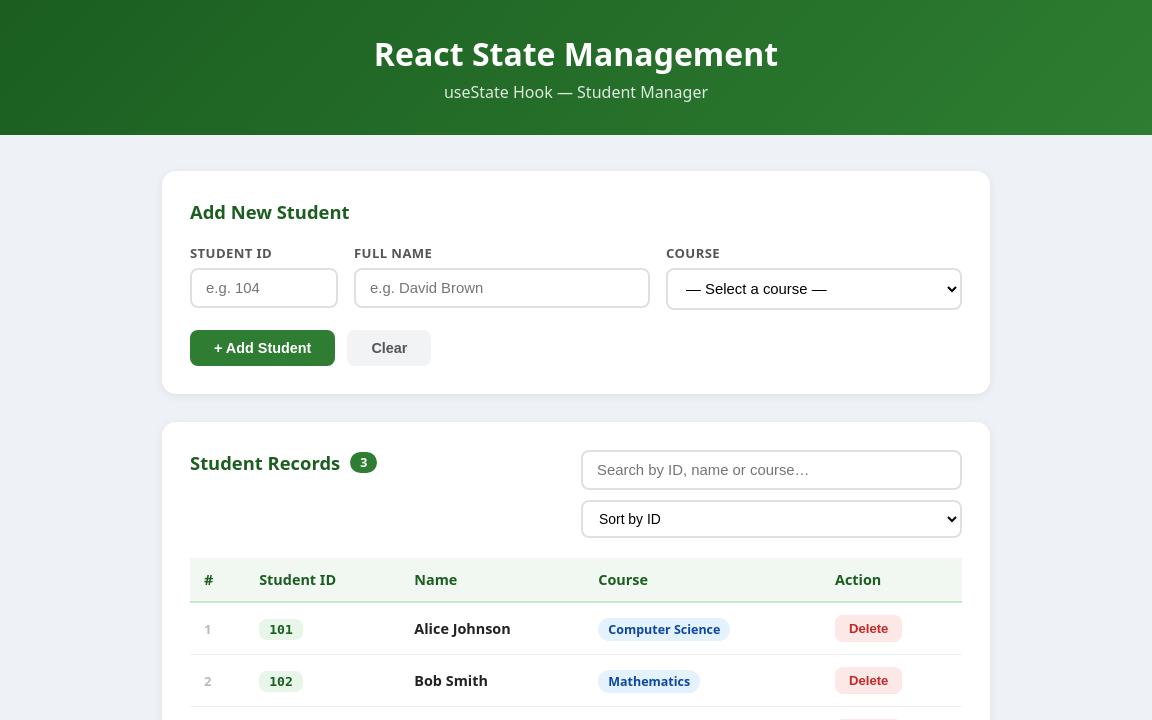
Test: shows validation error for duplicate ID
Type "101" into the field labelled "Student ID" at [264, 288], box [190,268,338,308]
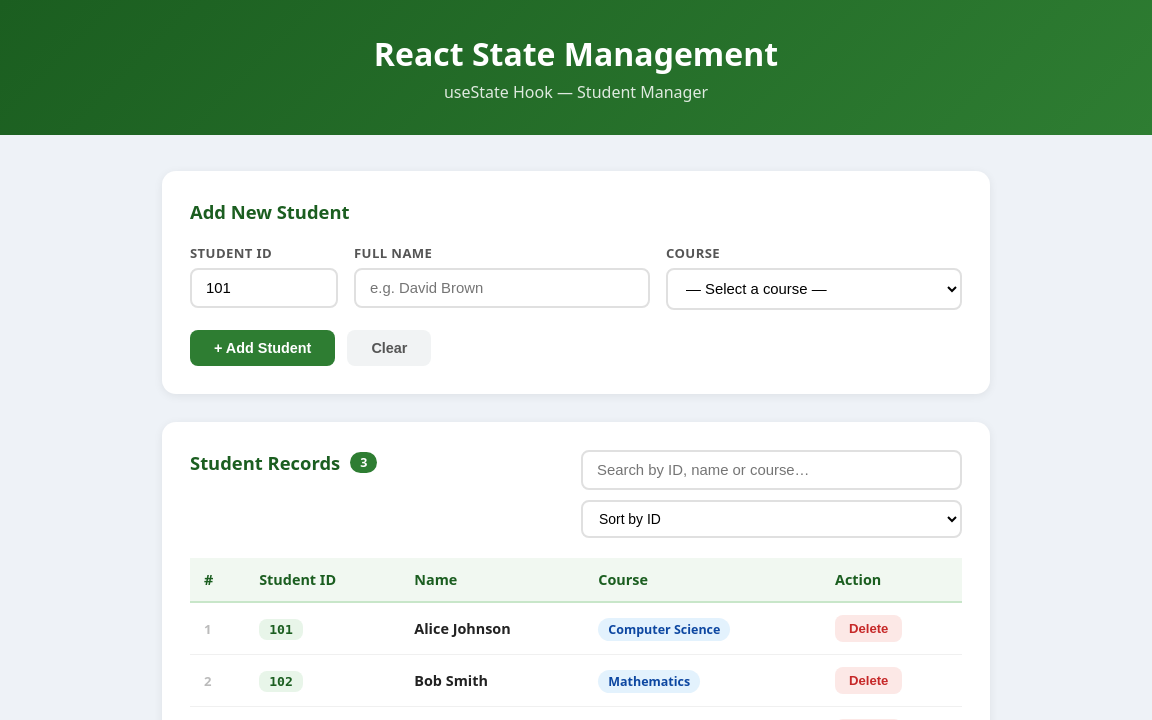
Type "Dup User" into the field labelled "Full Name" at [502, 288], box [354,268,650,308]
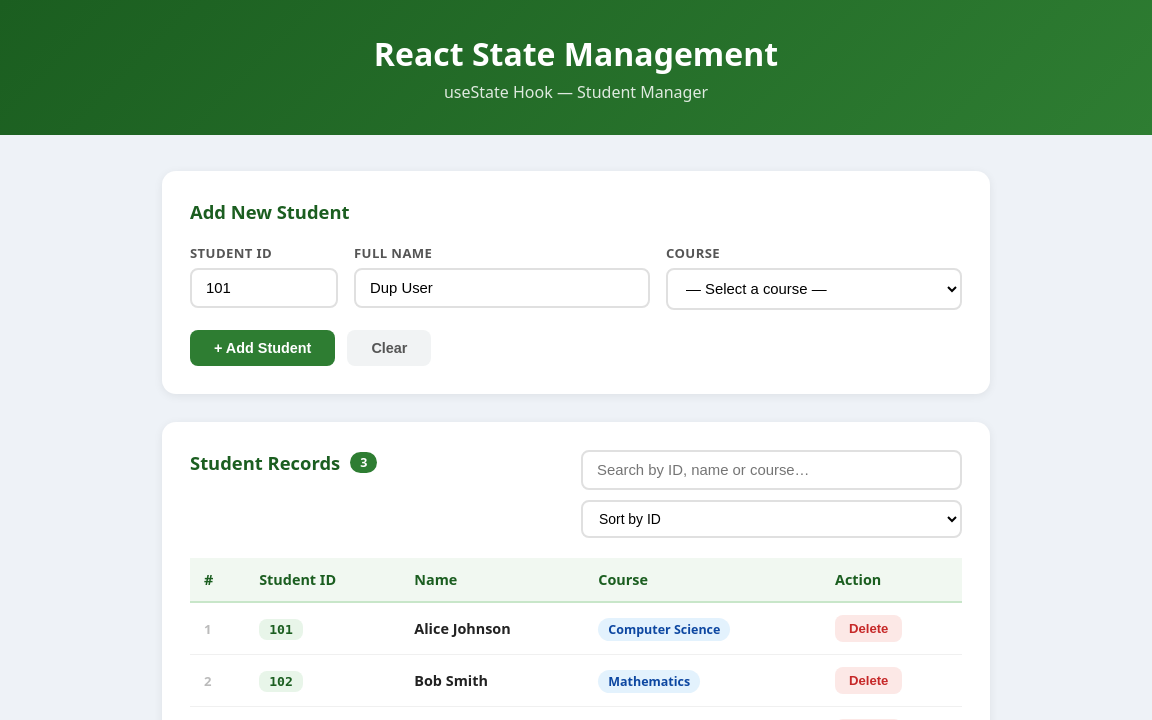
Select "Physics" in the dropdown labelled "Course" at [814, 289], box [666,268,962,310]
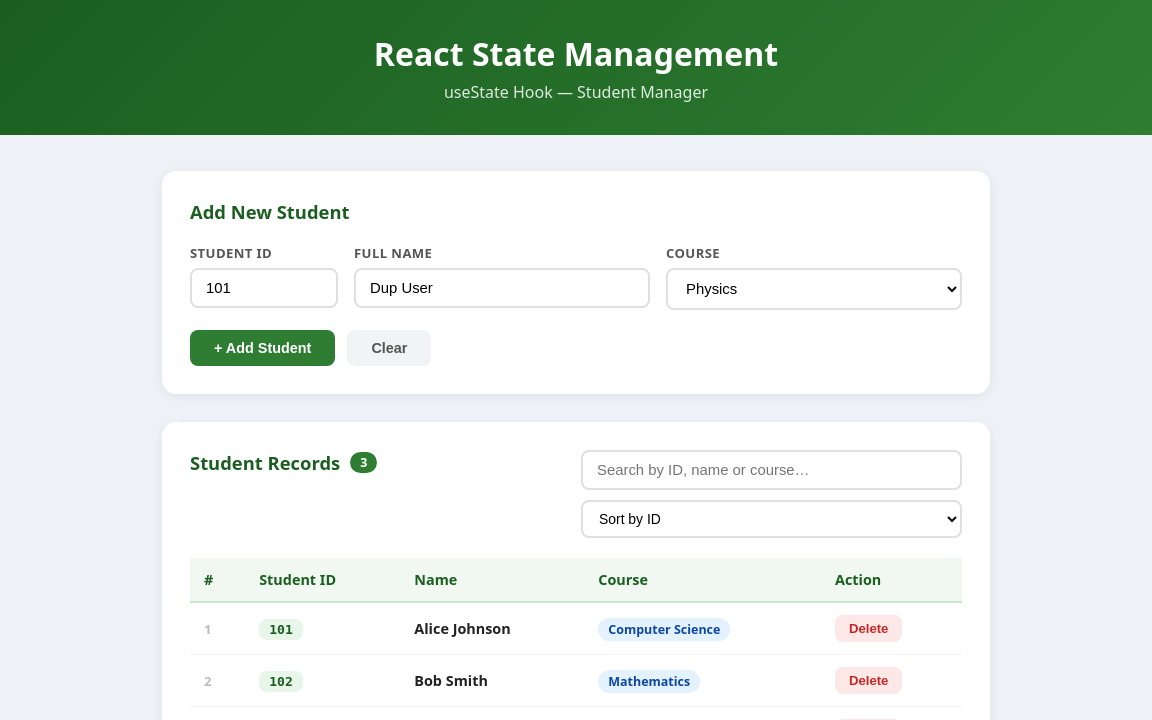
Click the button "+ Add Student" at [263, 348], box [190,330,335,366]
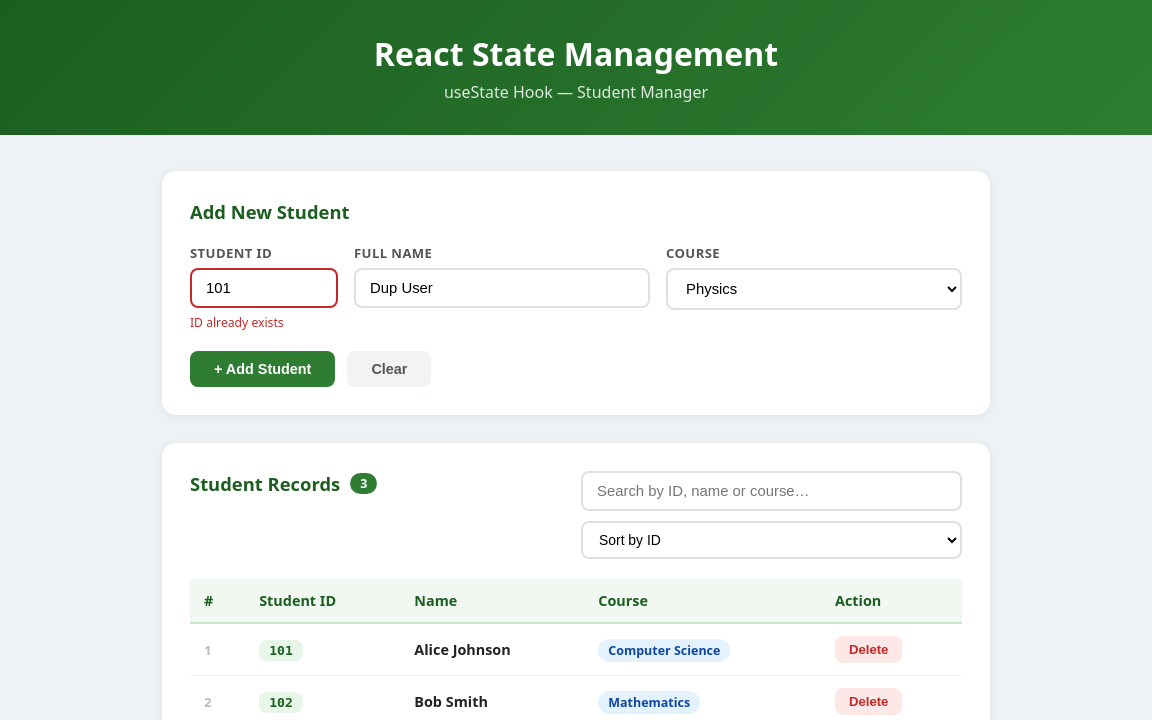
Result: the text "ID already exists" is shown at [190,314,284,331]
